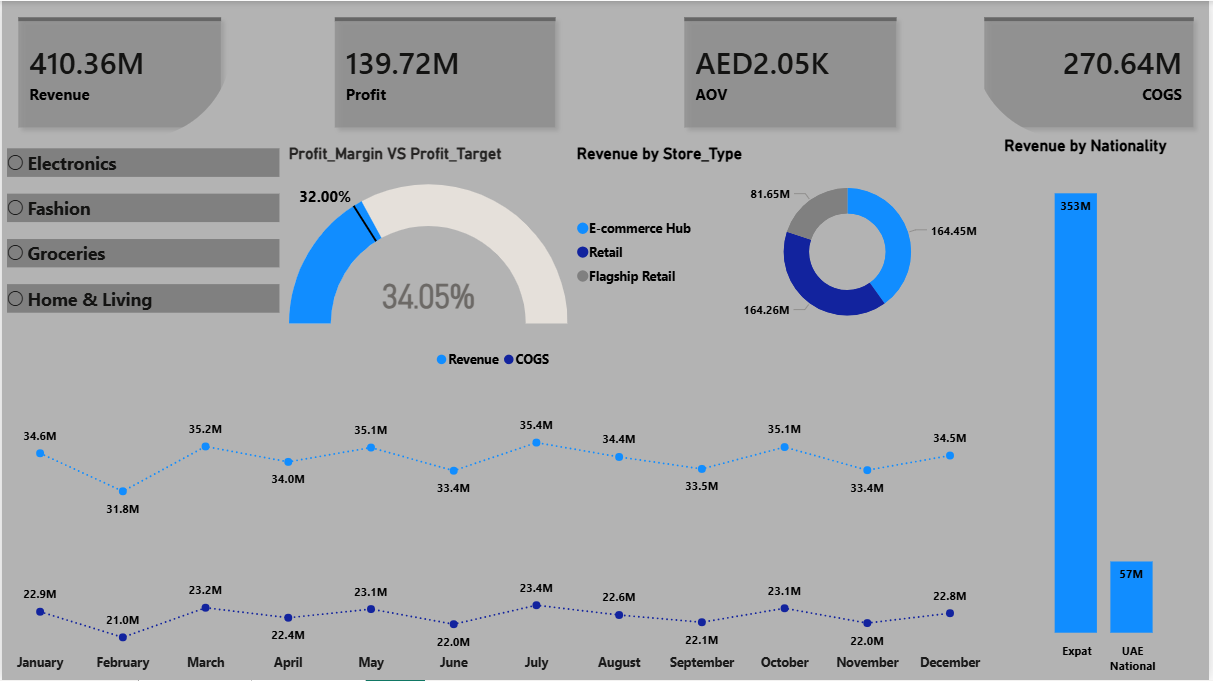

The page's visual inventory and layout, read from the dashboard file:
{"tool":"powerbi","page":{"name":"Page 1","canvas":[1280,720],"ordinal":0},"visuals":[{"type":"cardVisual","fields":{"Data":["Fact_Sales.AOV"]},"box":[706.2,0,259.3,151.1],"z":0},{"type":"cardVisual","fields":{"Data":["Fact_Sales.total_cost_goods_solds"]},"box":[1024.4,0,256.1,151.1],"z":1000},{"type":"cardVisual","fields":{"Data":["Fact_Sales.total_gross_revenue"]},"box":[0,0,249.5,151.2],"z":2000},{"type":"cardVisual","fields":{"Data":["Dim_Products.gross_profit"]},"box":[335.6,0,268.8,151.1],"z":3000},{"type":"donutChart","title":"Revenue by Store_Type","fields":{"Category":["Dim_Locations.Store_Type"],"Y":["Fact_Sales.total_gross_revenue"]},"box":[604.4,151.1,453.3,208.4],"z":5000},{"type":"lineChart","fields":{"Y":["Fact_Sales.total_gross_revenue","Fact_Sales.total_cost_goods_solds"],"Category":["dim_dates.Date.Variation.Date Hierarchy.Month"]},"box":[0,359.5,1045,361.1],"z":6000},{"type":"listSlicer","fields":{"Values":["Dim_Products.Category"]},"box":[0,151.1,299,208.4],"z":7000},{"type":"columnChart","title":"Revenue by Nationality","fields":{"Category":["Dim_Customers.Nationality_Type"],"Y":["Fact_Sales.total_gross_revenue"]},"box":[1057.8,143.2,222.7,577.4],"z":8000},{"type":"gauge","title":"Profit_Margin VS Profit_Target","fields":{"Y":["Dim_Products.profit_margin_%"],"TargetValue":["Fact_Sales.target_profit_margin"]},"box":[299,151.1,305.4,208.4],"z":9000}]}

Visuals, with their boxes in screenshot pixels (x1, y1, x2, y2), scaled from the page's 1280x720 canvas onto the 1213x681 screenshot:
cardVisual - Fact_Sales.AOV: 669,0,915,143
cardVisual - Fact_Sales.total_cost_goods_solds: 971,0,1212,143
cardVisual - Fact_Sales.total_gross_revenue: 0,0,236,143
cardVisual - Dim_Products.gross_profit: 318,0,573,143
"Revenue by Store_Type" donutChart: 573,143,1002,340
lineChart - Fact_Sales.total_gross_revenue x Fact_Sales.total_cost_goods_solds: 0,340,990,680
listSlicer - Dim_Products.Category: 0,143,283,340
"Revenue by Nationality" columnChart: 1002,135,1212,680
"Profit_Margin VS Profit_Target" gauge: 283,143,573,340
